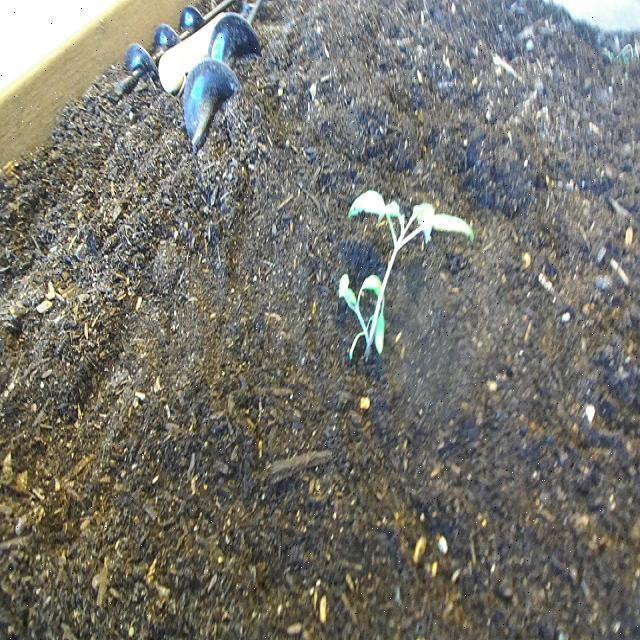Healthy: (336, 174, 477, 386)
